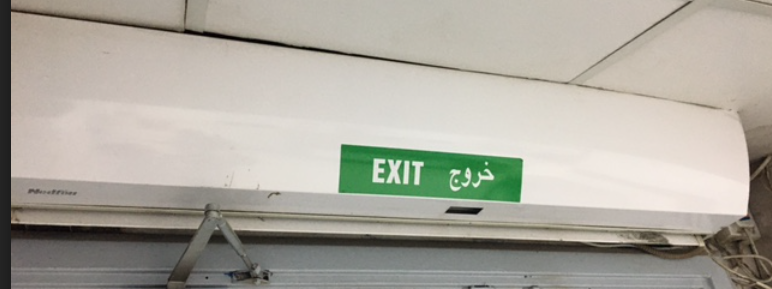Air Curtain: (6, 8, 759, 250)
